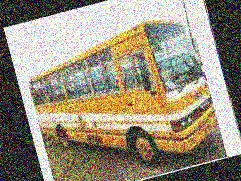bus: (20, 8, 224, 181)
